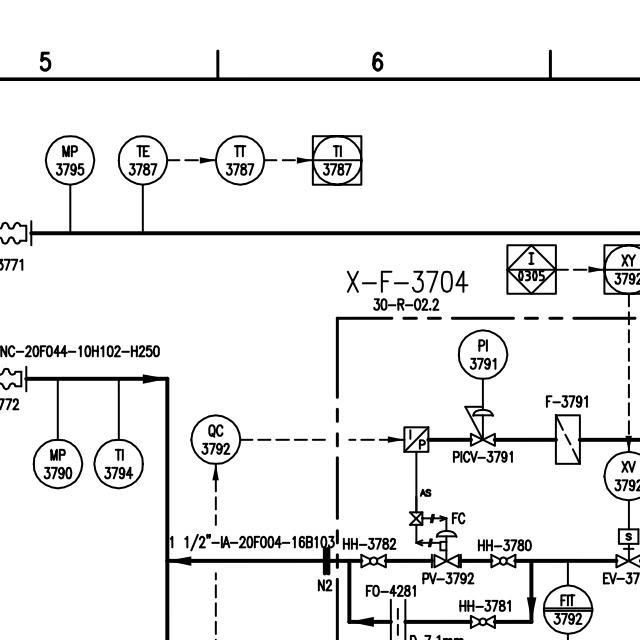BV2: (357, 550, 388, 569), (467, 612, 498, 631), (486, 551, 518, 569)
CBV: (408, 507, 468, 573)
EPA: (400, 422, 431, 454)
O: (387, 596, 409, 640)
PCV: (461, 400, 498, 448)
SV: (612, 523, 640, 571)
